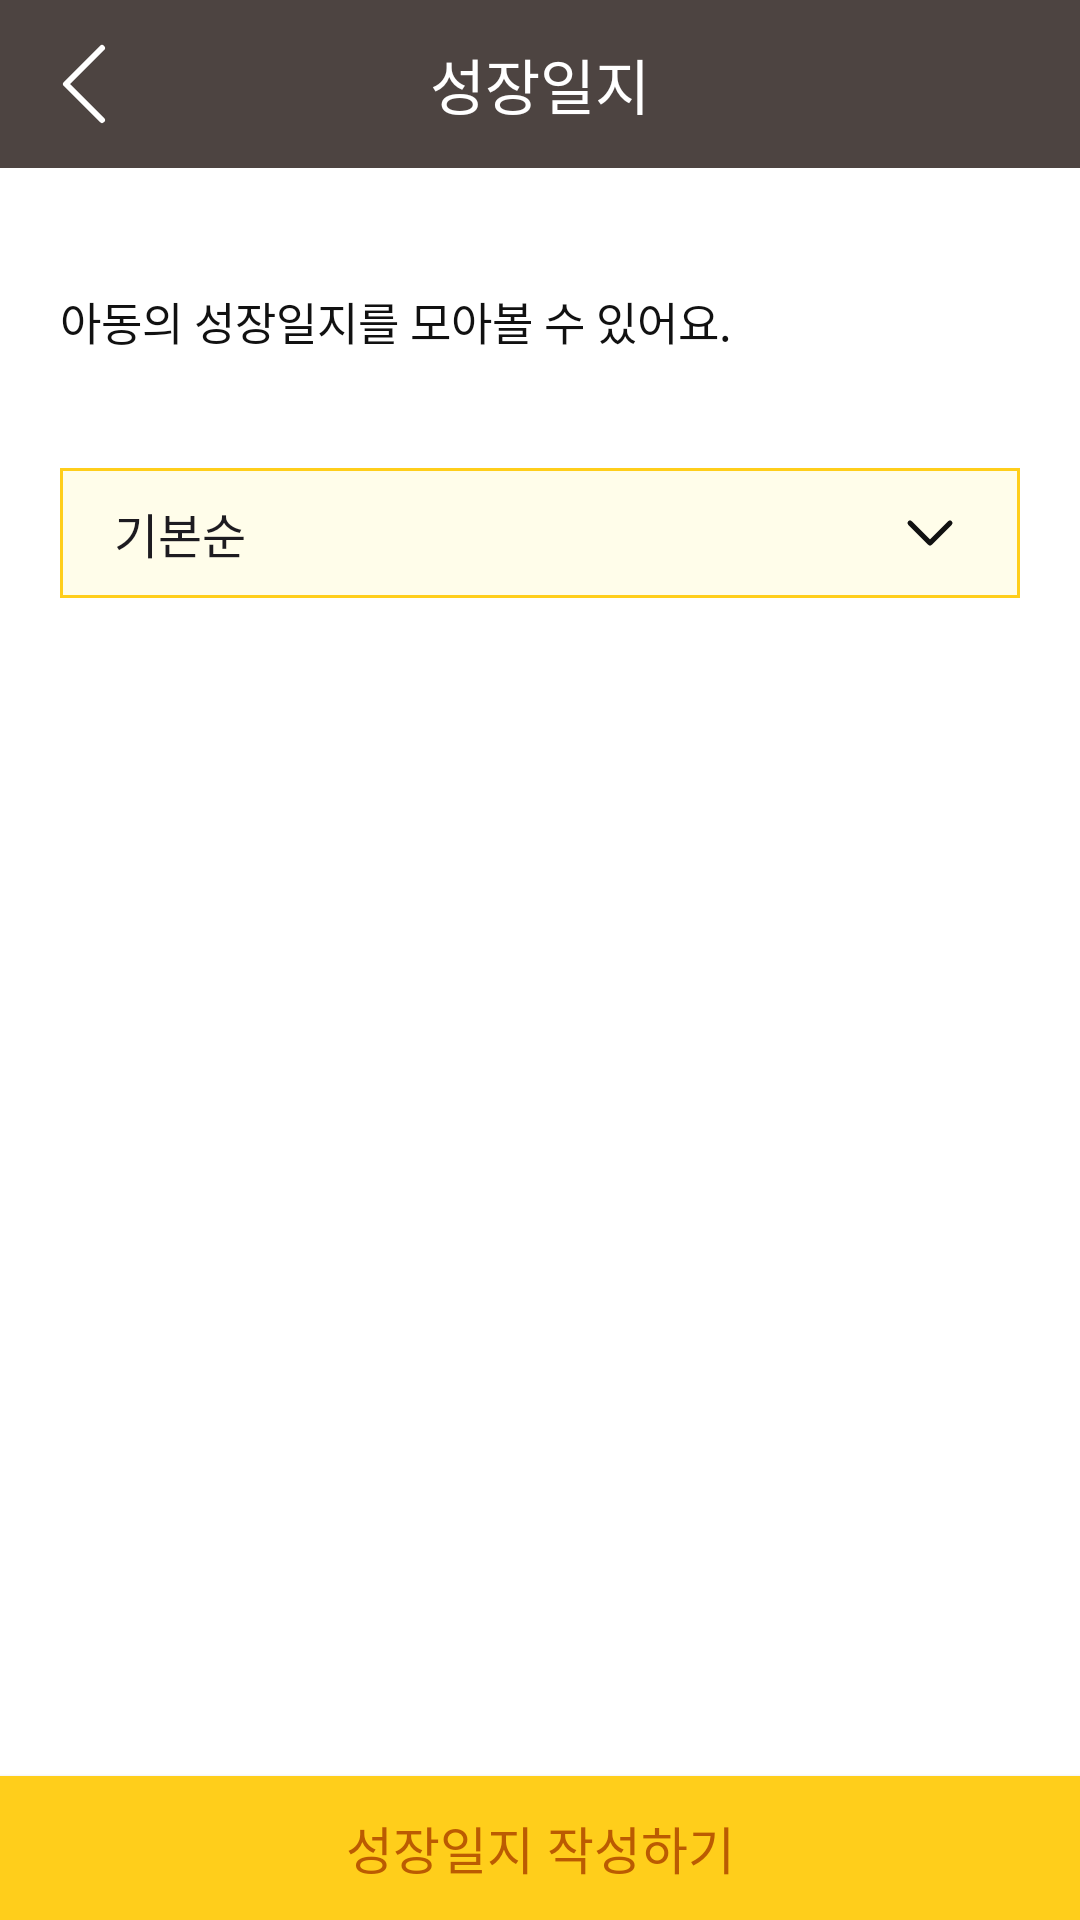

Icons on this 1080×1920 Android screen, each with the point to tap as (x,y):
back: (84,83)
